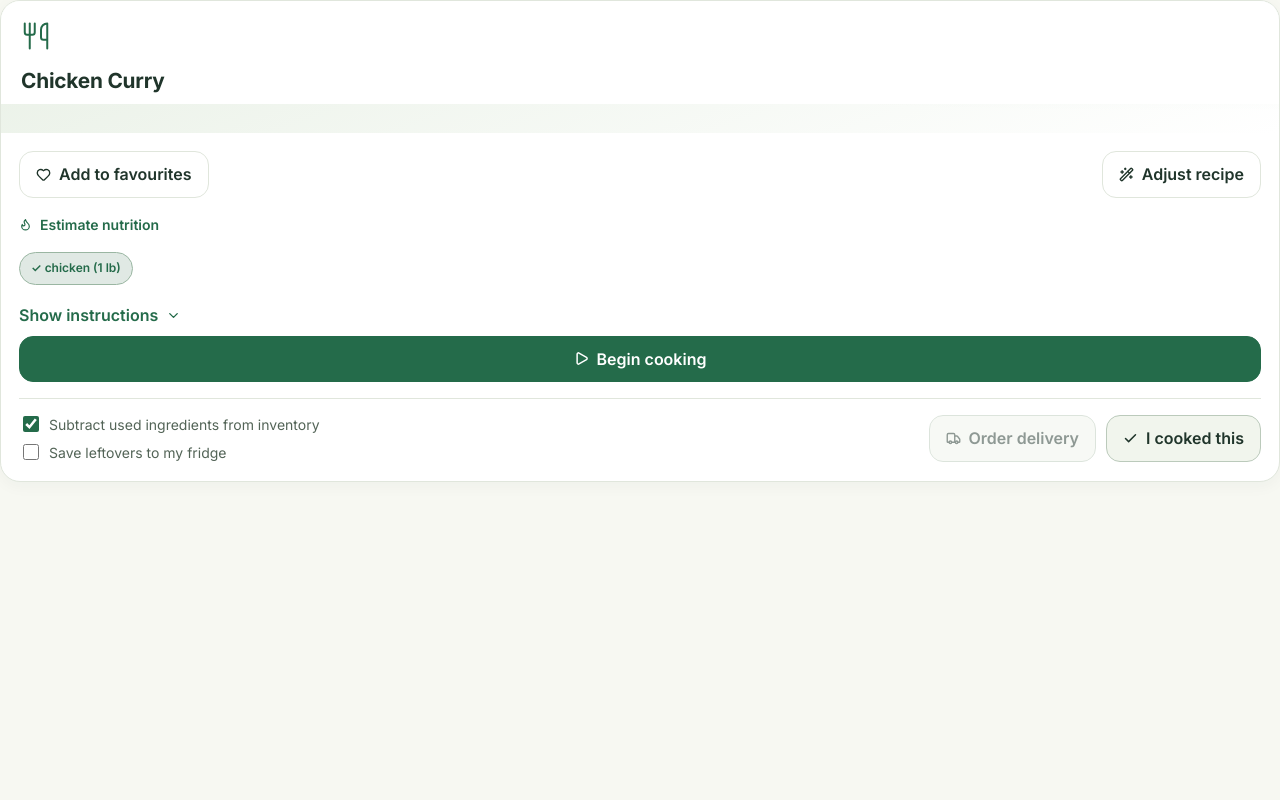
Test: sends free-text instructions and keeps the panel open on failure
The width and height of the screenshot is (1280, 800).
Click the button "Adjust recipe" at (1181, 174), box [1102,151,1261,198]
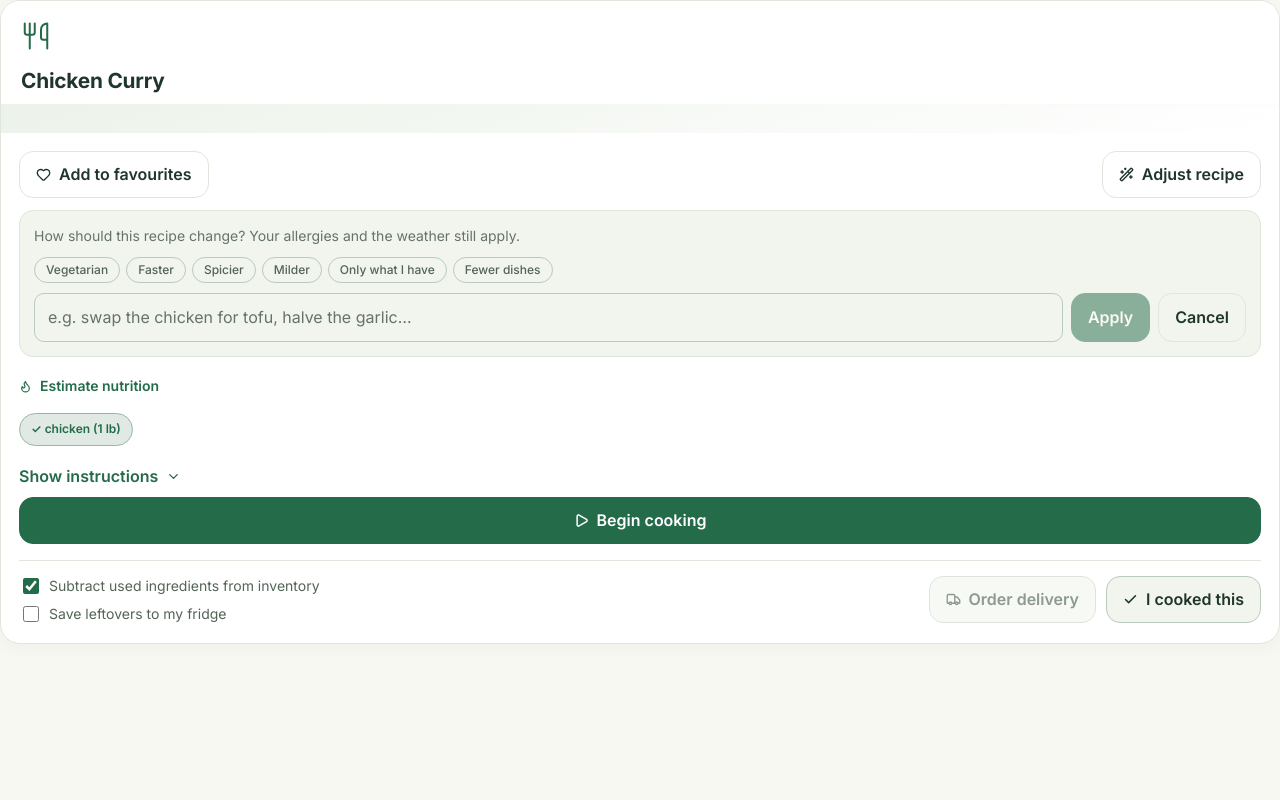
expect the button "Apply" is disabled: met, box [1071,293,1150,342]
Type "  add peanuts " into the field named "Describe the change" at (548, 318), box [34,293,1063,342]
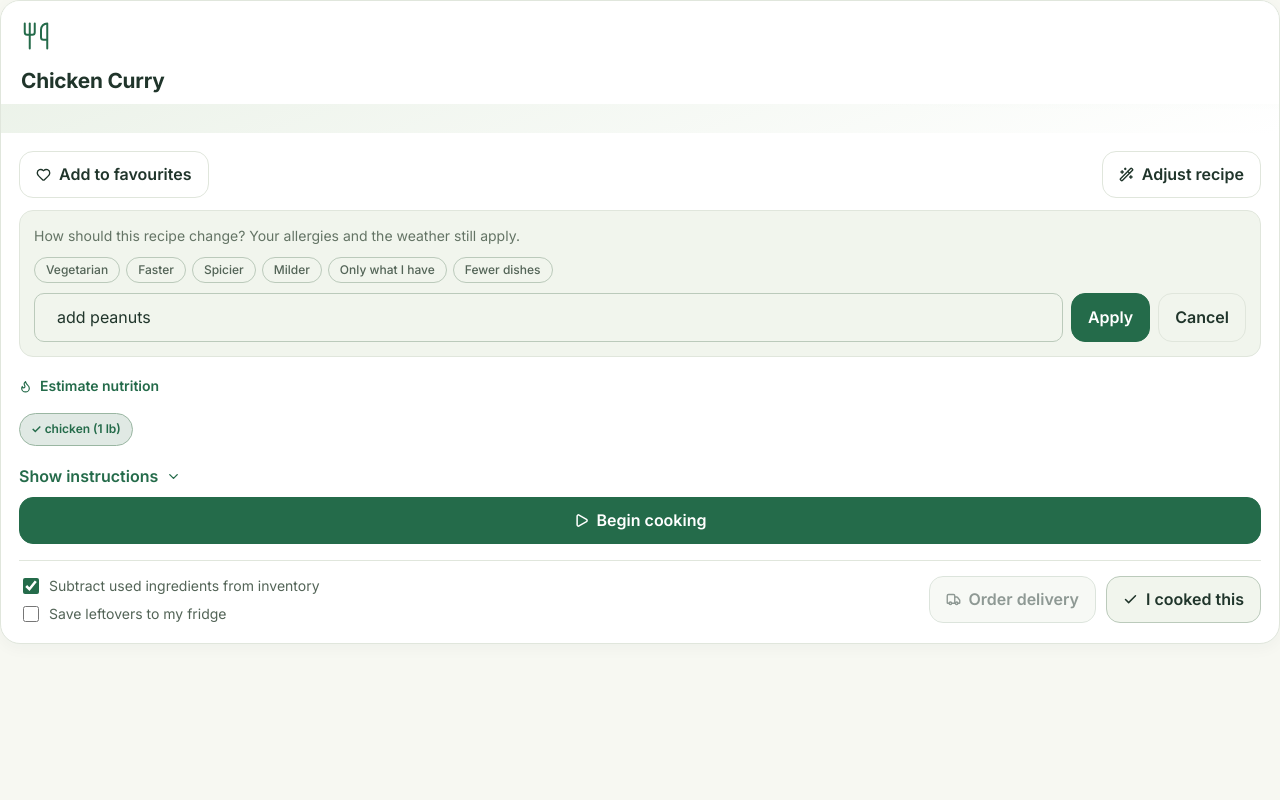
Click the button "Apply" at (1111, 318), box [1071,293,1150,342]
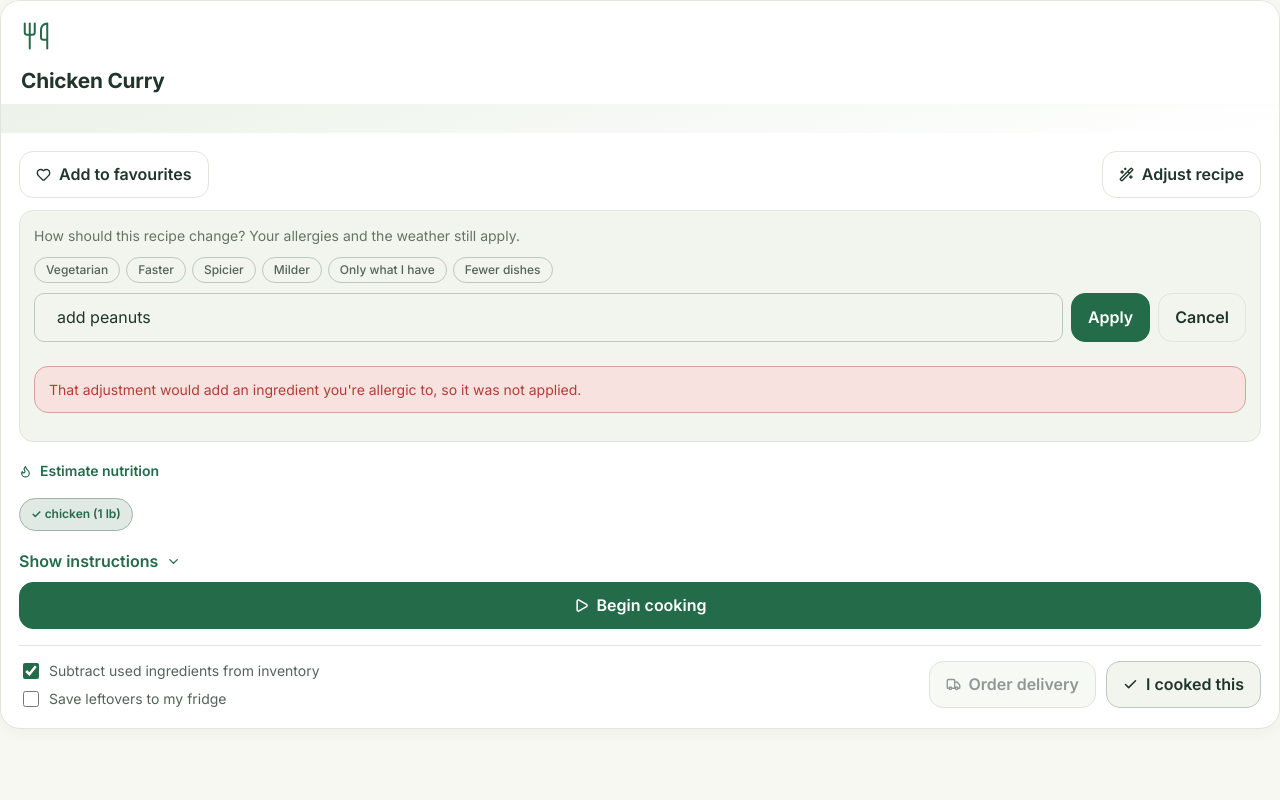
expect the element named "Adjust this recipe" is shown: met, box [19,210,1261,442]
expect the message is shown: met, box [34,366,1246,413]
